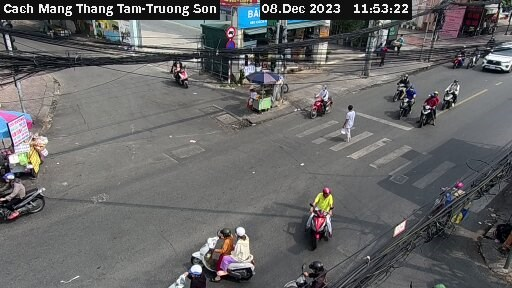car: (483, 40, 512, 71)
motorbike: (195, 221, 259, 279), (1, 168, 50, 230), (292, 191, 340, 244), (436, 72, 471, 109), (304, 85, 339, 118), (161, 56, 199, 84), (415, 94, 444, 130), (386, 90, 417, 122), (389, 71, 413, 95)
